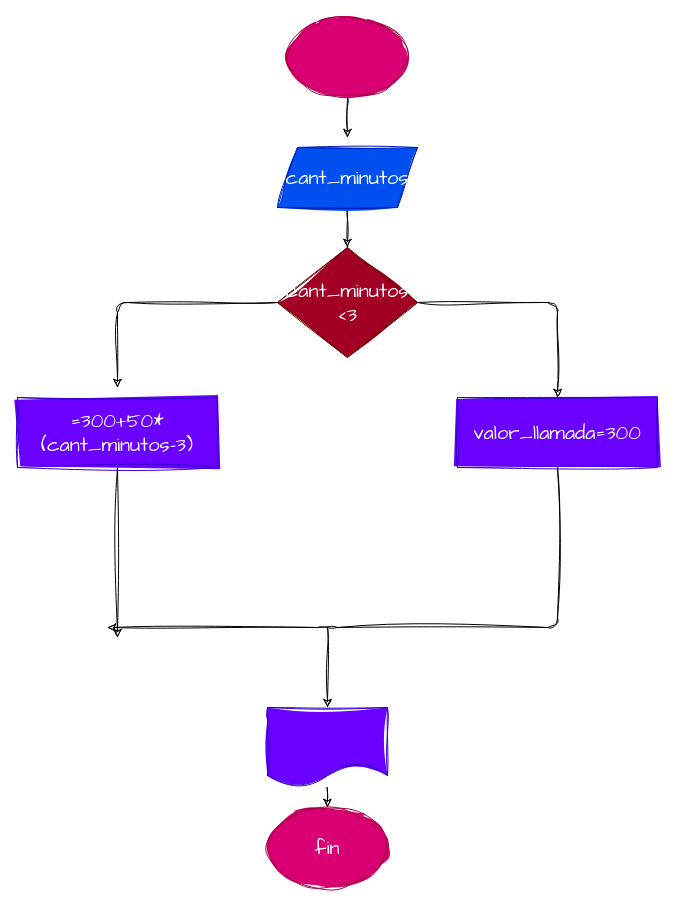
Image size: 675x905. Some labels were removed from this diagram. Here are the shapes that lost their labels. From the top down, the centre of each, then its label:
the point at 347,57: inicio
the point at 327,747: valor_llamada
